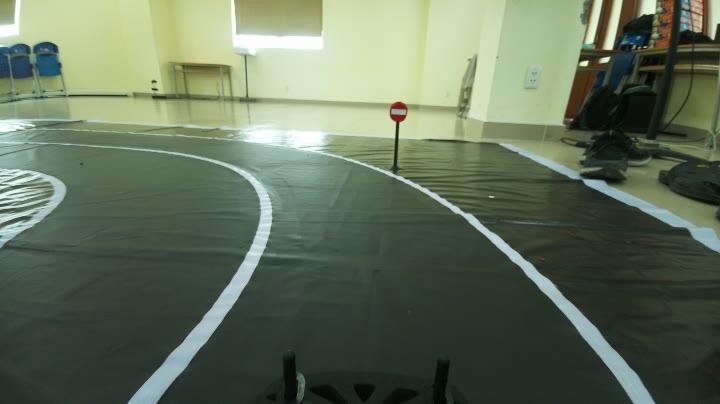no_entry: (384, 99, 414, 125)
